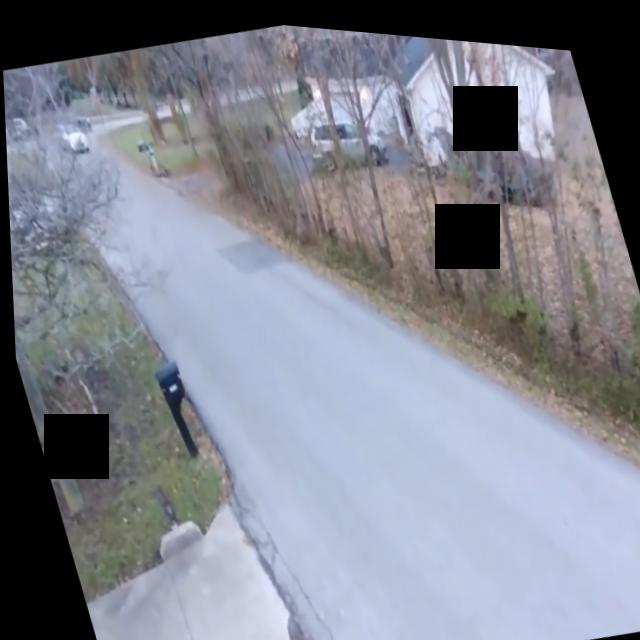Pole: (3, 81, 79, 513)
Tree: (468, 33, 640, 412), (2, 53, 167, 435), (354, 25, 546, 319), (252, 18, 415, 266), (181, 22, 300, 240)
Vehicle: (303, 101, 391, 178), (58, 119, 94, 159)
